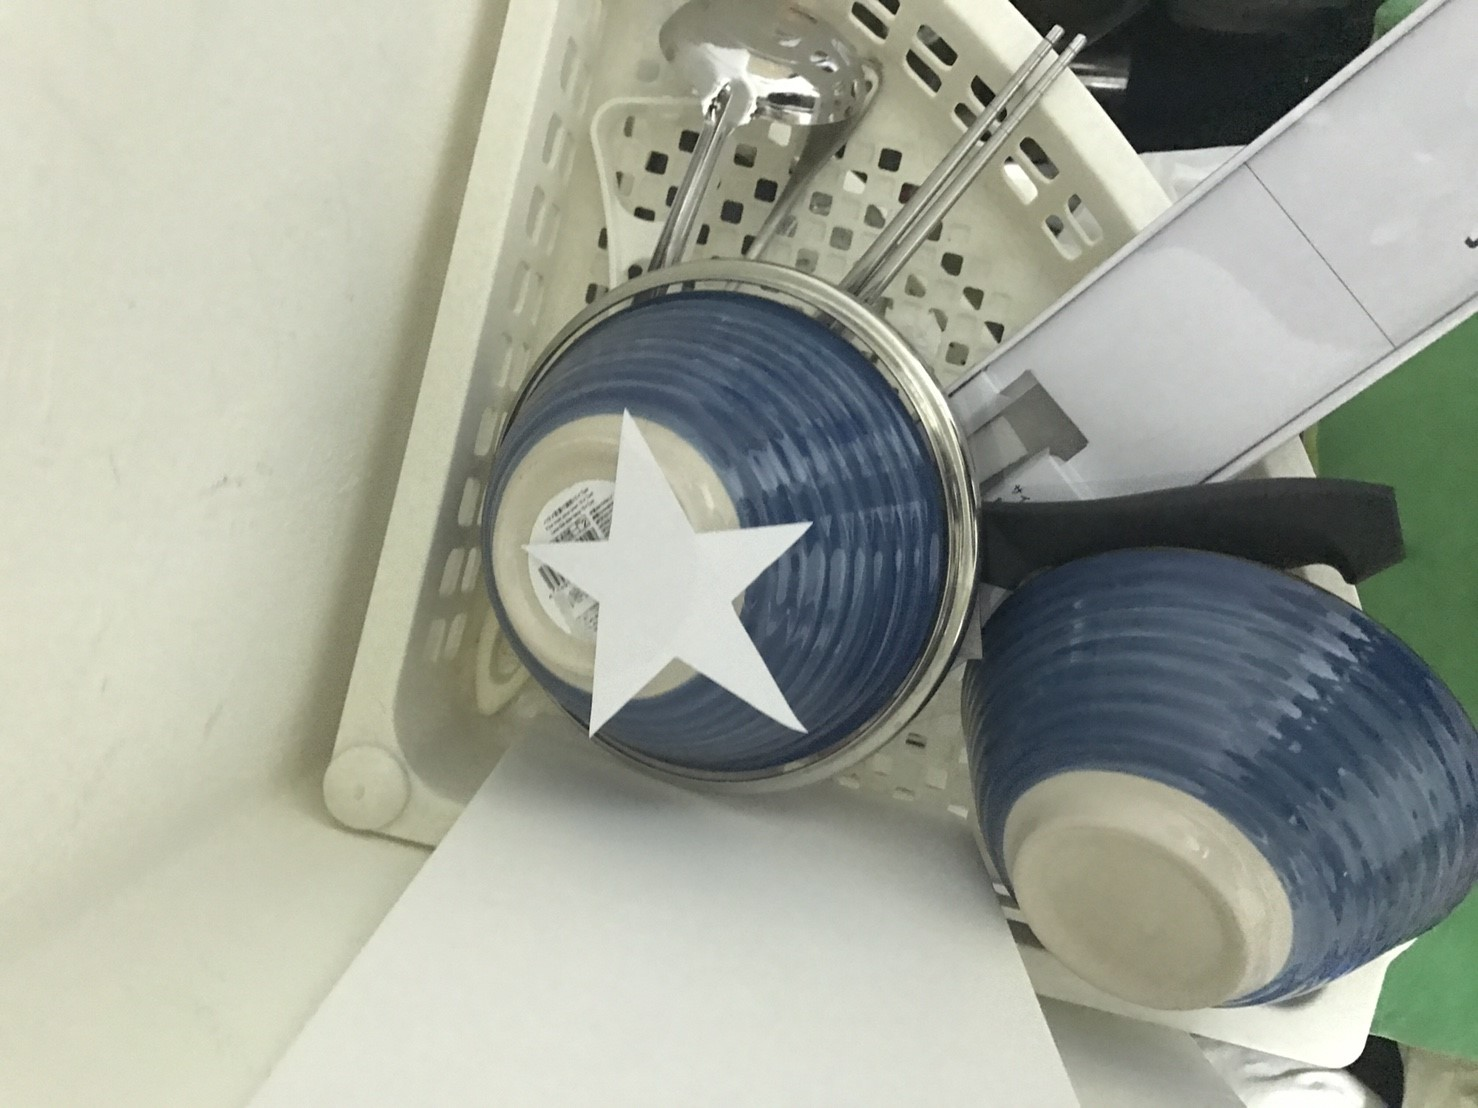star: (511, 389, 854, 743)
